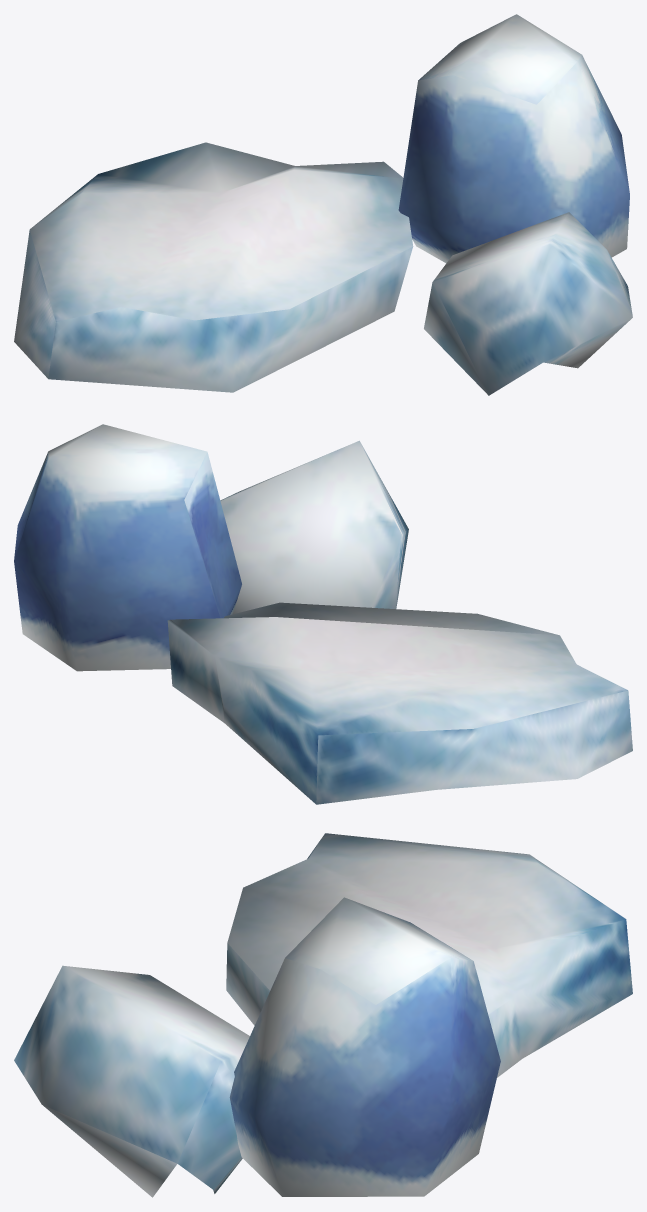
Rendered from SM_stoneC_02.fbx.
3 renders of one model, top to bottom at view 1: azimuth 30°, elevation 25°; view 2: azimuth 150°, elevation 25°; view 3: azimuth 270°, elevation 25°, orthographic. The views are drawn at different scales.
Visible parts, largest first — view 1: SM_stoneC_02; view 2: SM_stoneC_02; view 3: SM_stoneC_02.
Part boxes in pixels (x1,y1,x2,y2): SM_stoneC_02: (14, 14, 632, 395); SM_stoneC_02: (14, 424, 632, 804); SM_stoneC_02: (14, 833, 632, 1197).
Bounding box in the file's own units: 3.17 × 1.27 × 2.52.
